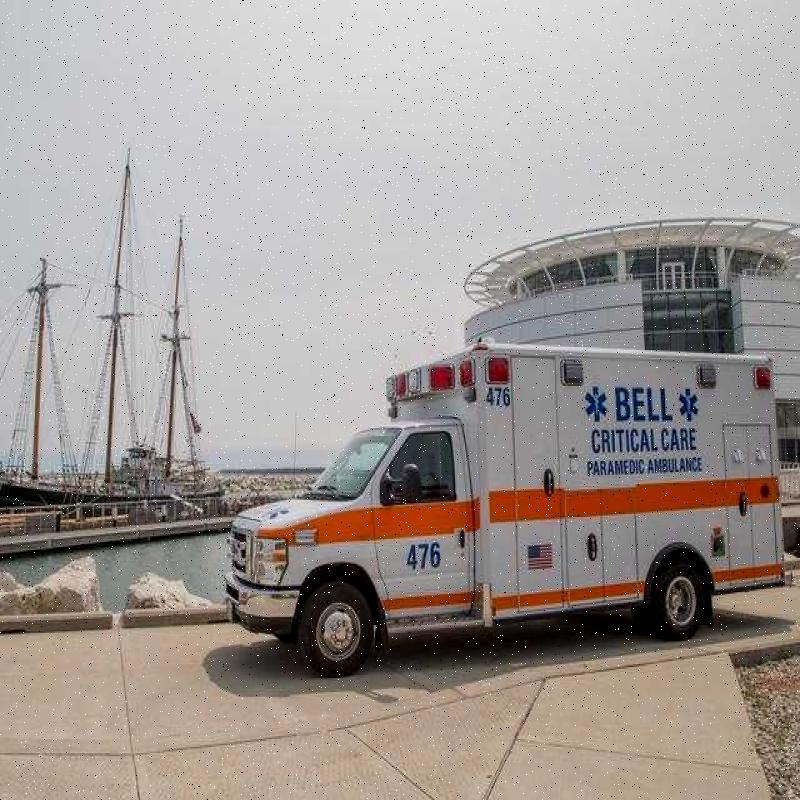AmbulanceSiren: (375, 358, 502, 410)
